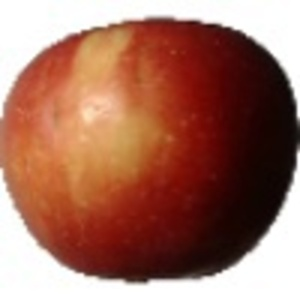maçã braeburn: (1, 11, 300, 288)
